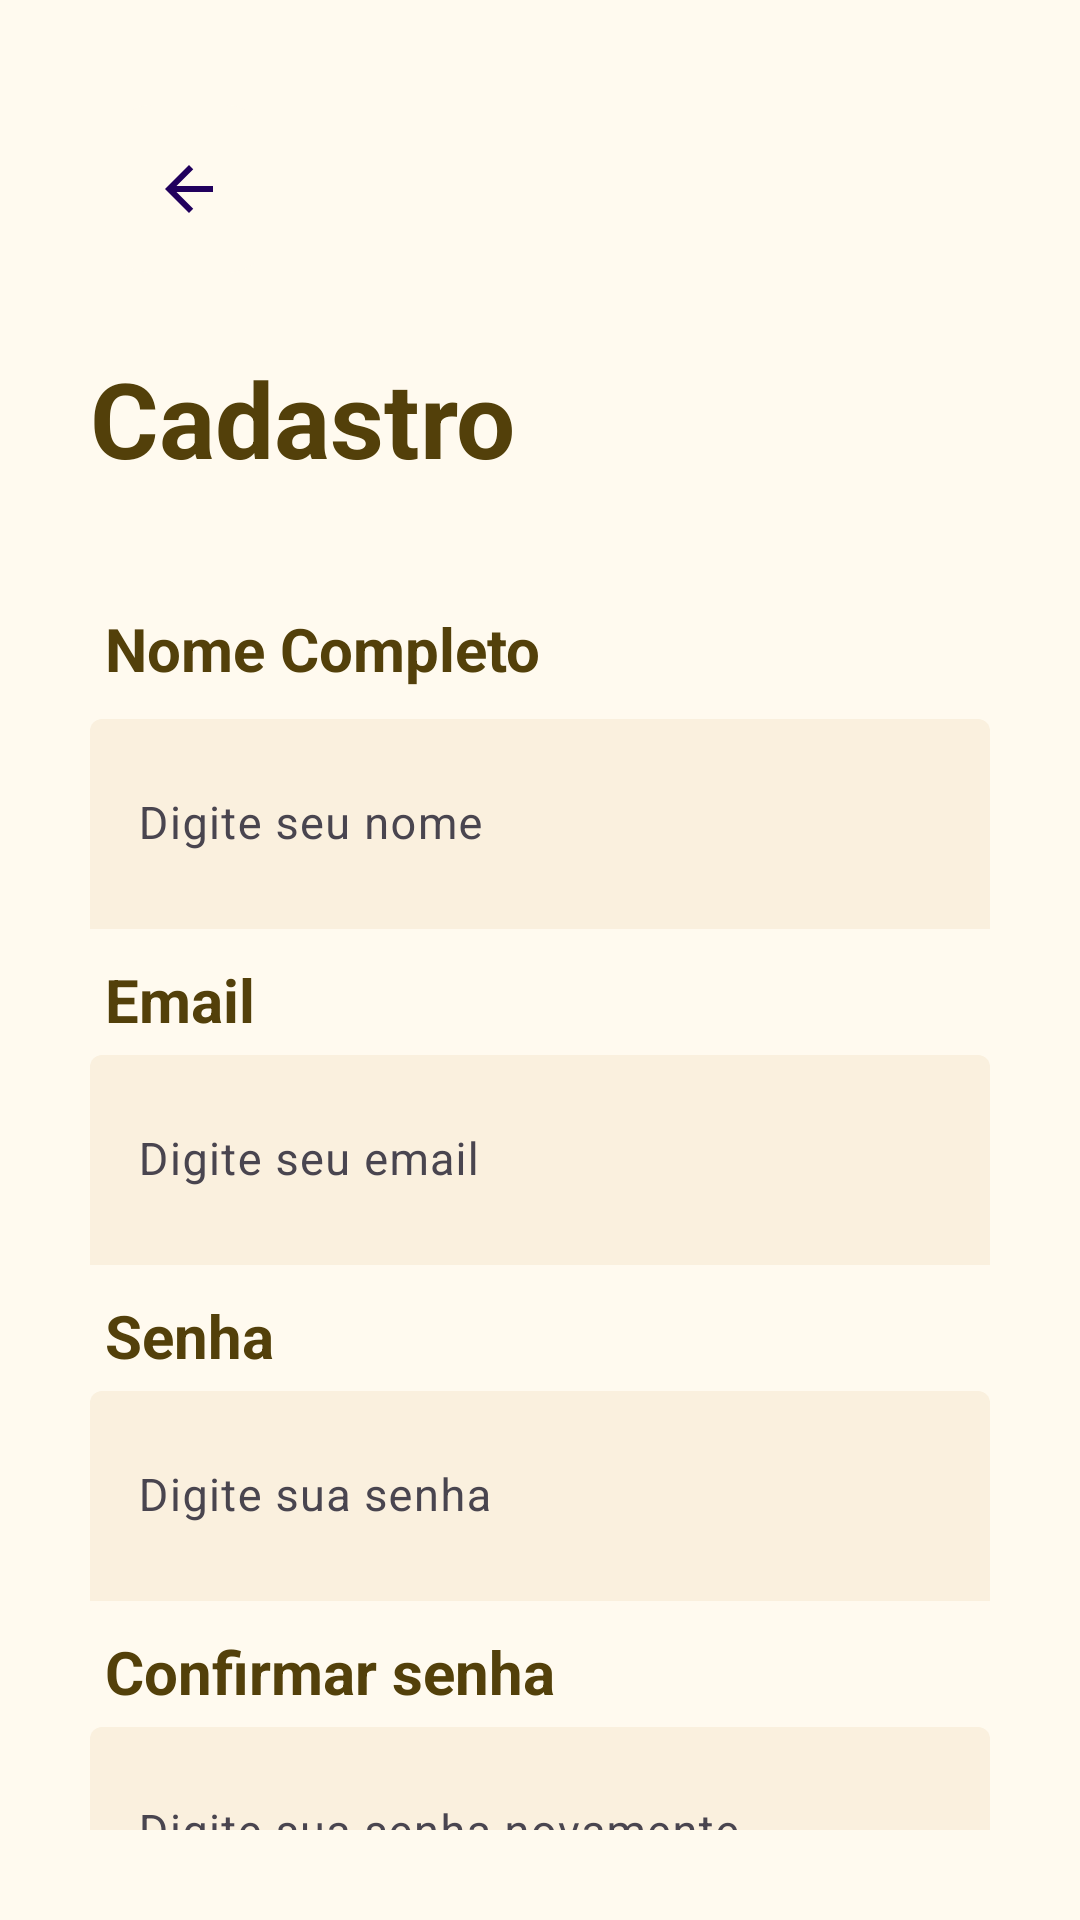

Icons on this 1080 × 1920 Android screen, each with its box as box=[x1, y1, x2, y2]:
arrow back: box=[165, 165, 213, 213]
